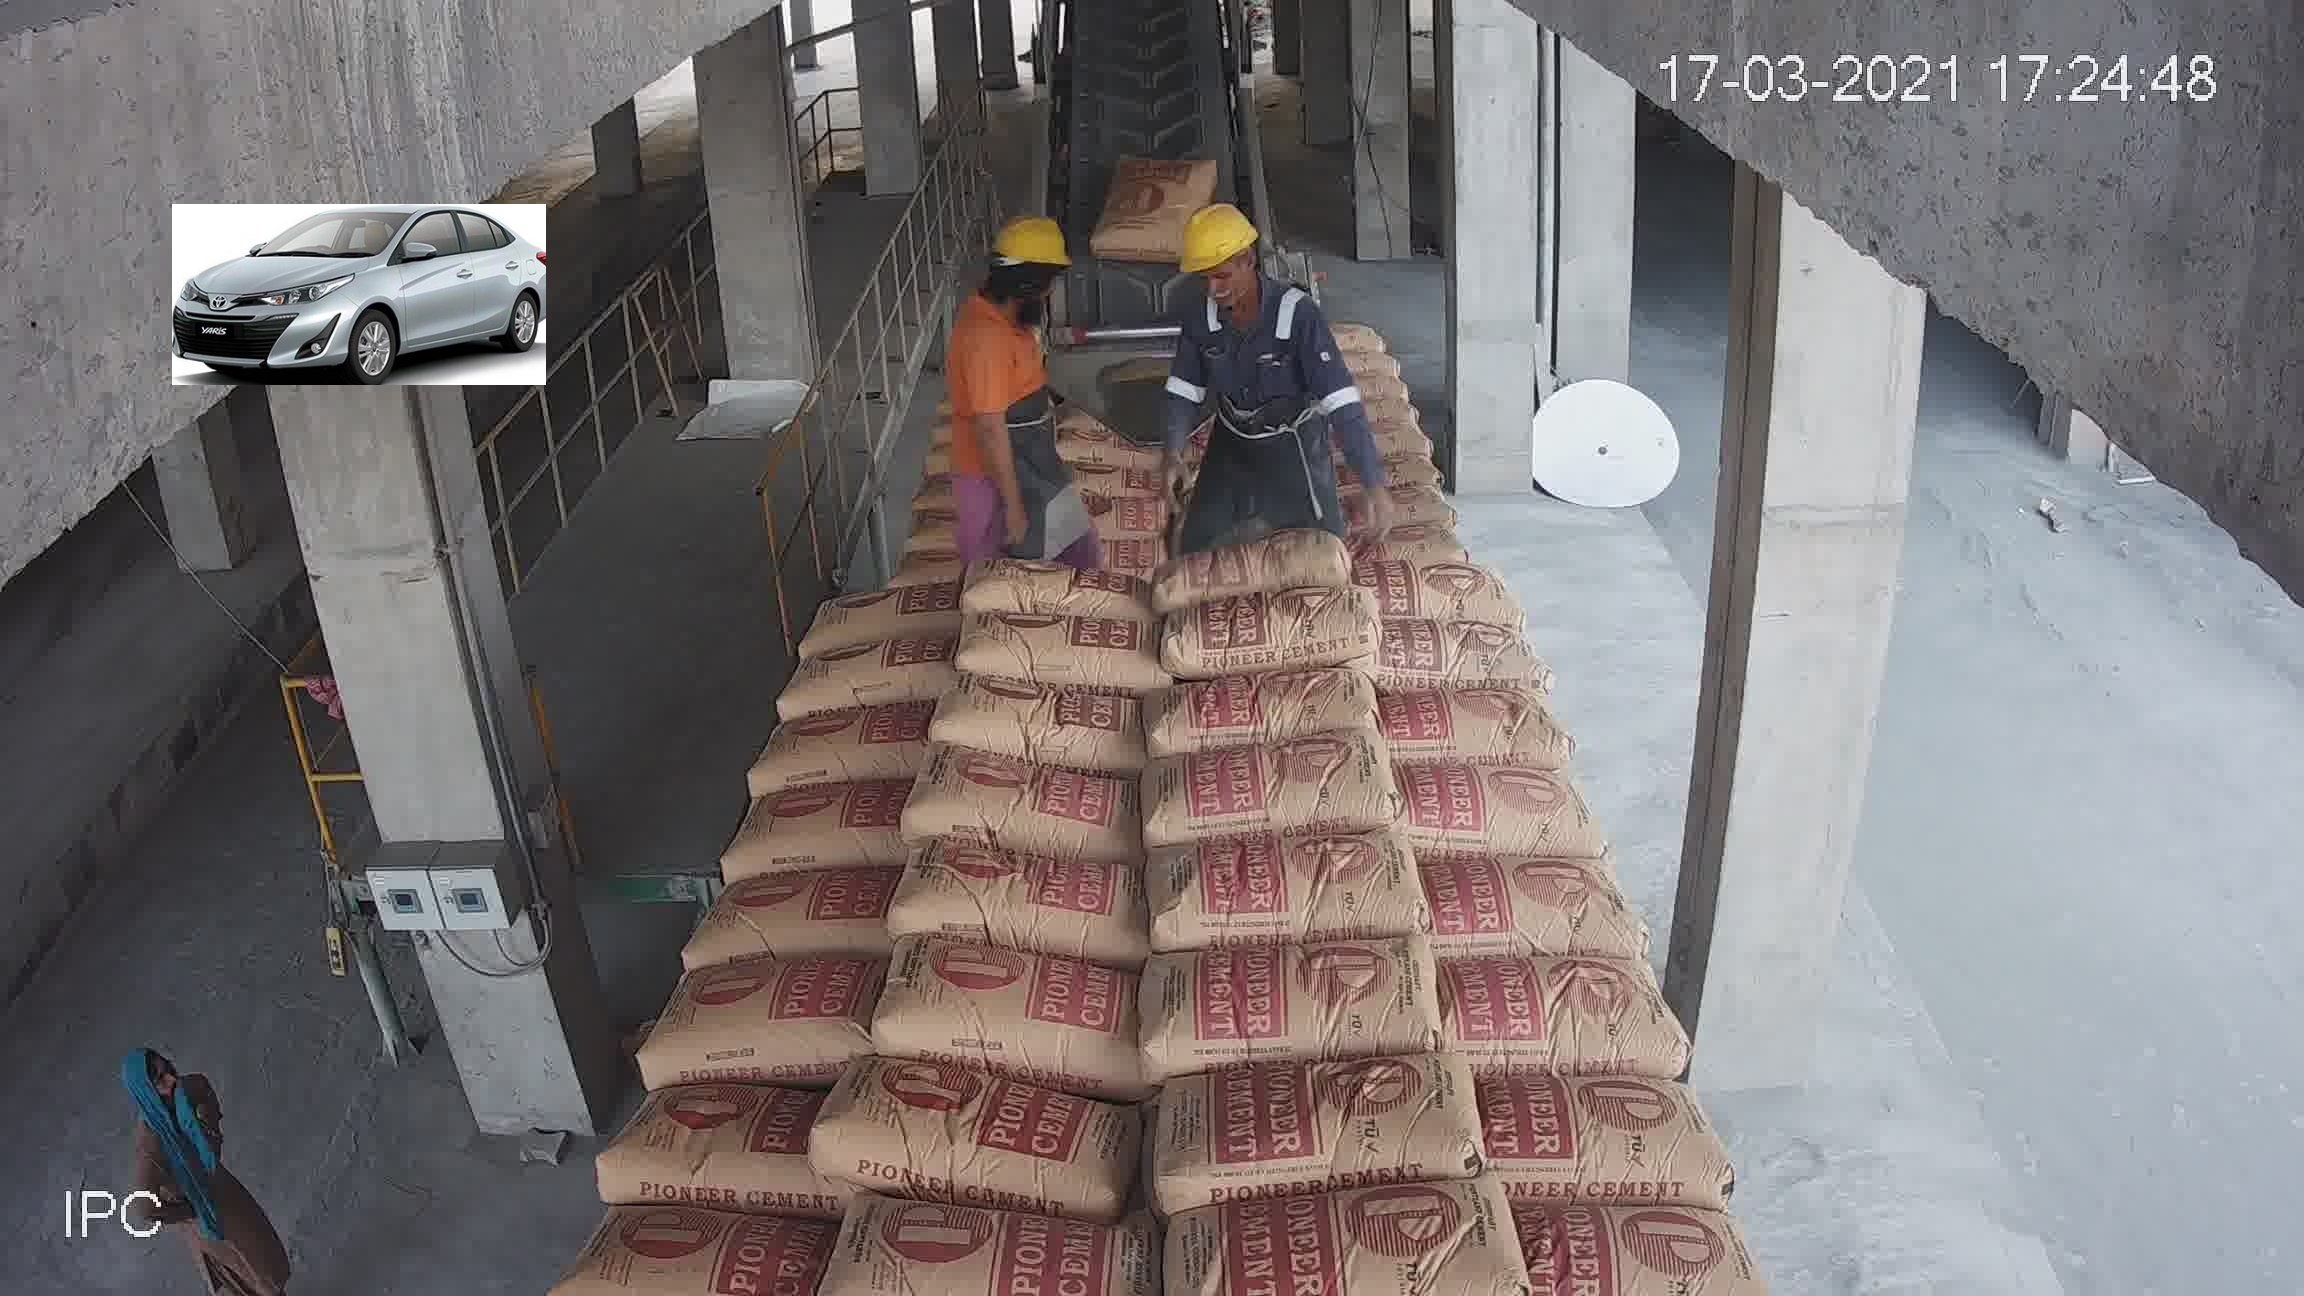bag: (1043, 14, 1234, 285), (1119, 222, 1211, 296), (1097, 11, 1193, 70)
bag_h: (1160, 1055, 1472, 1204), (1147, 1180, 1527, 1285), (1141, 942, 1461, 1063), (1418, 945, 1695, 1084), (764, 1090, 1154, 1188), (592, 1071, 877, 1199), (1109, 828, 1404, 948), (820, 967, 1143, 1070), (785, 1195, 1166, 1279), (559, 1199, 869, 1296), (907, 836, 1169, 949), (1141, 646, 1407, 756), (630, 962, 877, 1081), (623, 869, 907, 967), (1487, 1082, 1733, 1185), (1146, 739, 1400, 834), (904, 753, 1161, 847), (953, 658, 1171, 767), (1499, 1201, 1779, 1283), (1410, 866, 1647, 957), (695, 783, 916, 878), (1136, 584, 1378, 668), (1166, 497, 1362, 598), (728, 703, 964, 786), (961, 600, 1166, 687), (1386, 774, 1603, 855), (1150, 446, 1336, 524), (1143, 400, 1343, 472), (771, 642, 951, 722), (961, 503, 1184, 565), (968, 551, 1157, 620), (1340, 497, 1503, 576), (1386, 688, 1575, 756), (991, 456, 1139, 521), (1391, 619, 1521, 692), (815, 533, 956, 600), (837, 460, 983, 524), (1355, 570, 1521, 625), (1182, 495, 1353, 546), (821, 590, 973, 644), (989, 434, 1161, 479), (1342, 415, 1461, 476), (1337, 476, 1495, 521), (821, 506, 968, 551), (935, 426, 1000, 476), (935, 389, 1005, 432)
